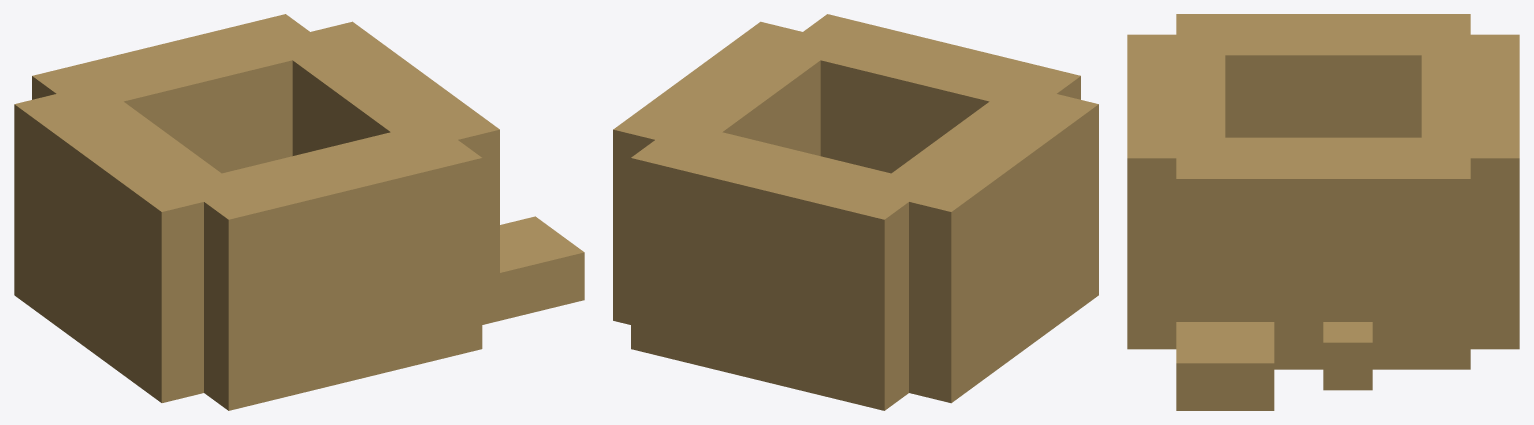
Rendered from rope-coil-pixor-blocky.glb.
3 views of the same model, side by side, from view 1: azimuth 30°, elevation 25°; view 2: azimuth 150°, elevation 25°; view 3: azimuth 270°, elevation 25° (orthographic).
Parts seen in each view (by area): view 1: Rope coil; view 2: Rope coil; view 3: Rope coil.
Part boxes in pixels (bbox=[...]): Rope coil: bbox=[14, 14, 584, 410]; Rope coil: bbox=[613, 14, 1098, 410]; Rope coil: bbox=[1127, 14, 1519, 410].
Size of the model in its own units: 0.4935 by 0.2132 by 0.3974.
